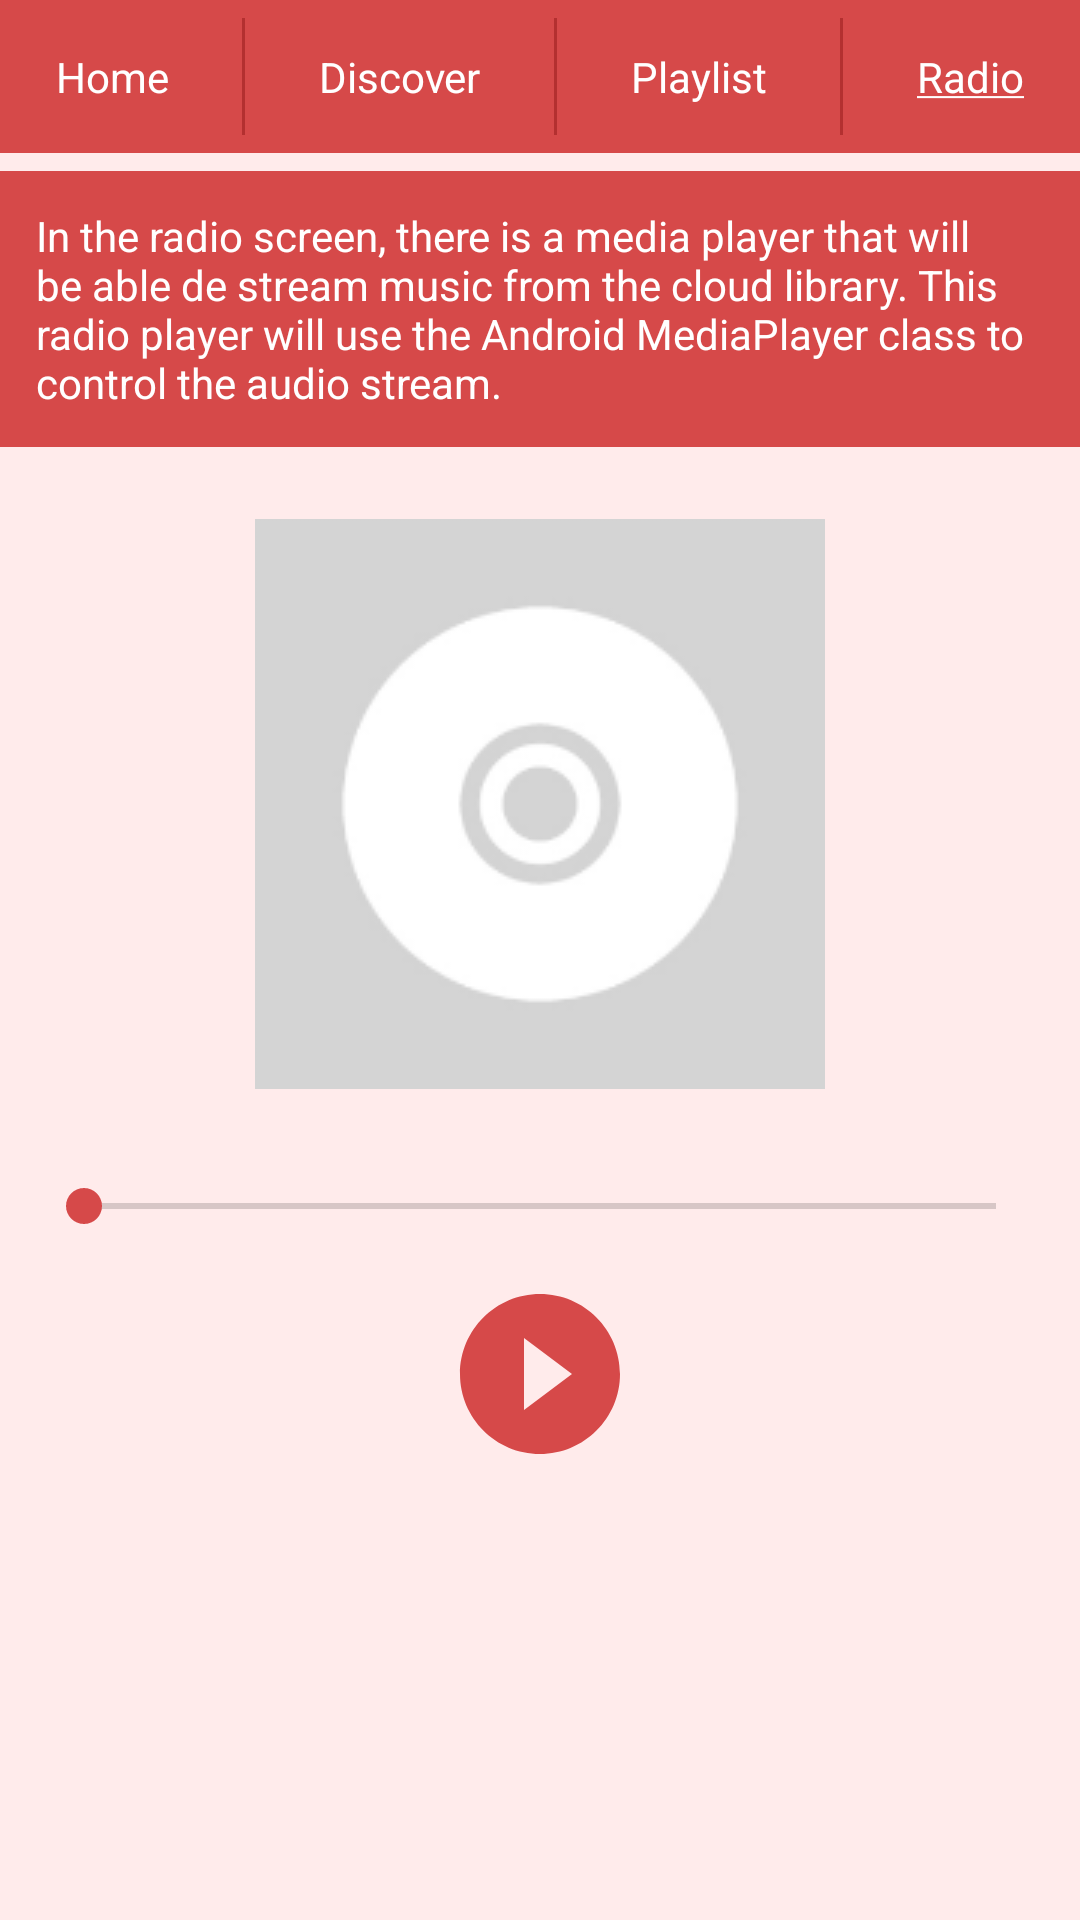

Screen size 1080w x 1920h. Icon name, then its box in pixels as (x1, y1, x2, y2):
play circle: (460, 1294, 620, 1454)
